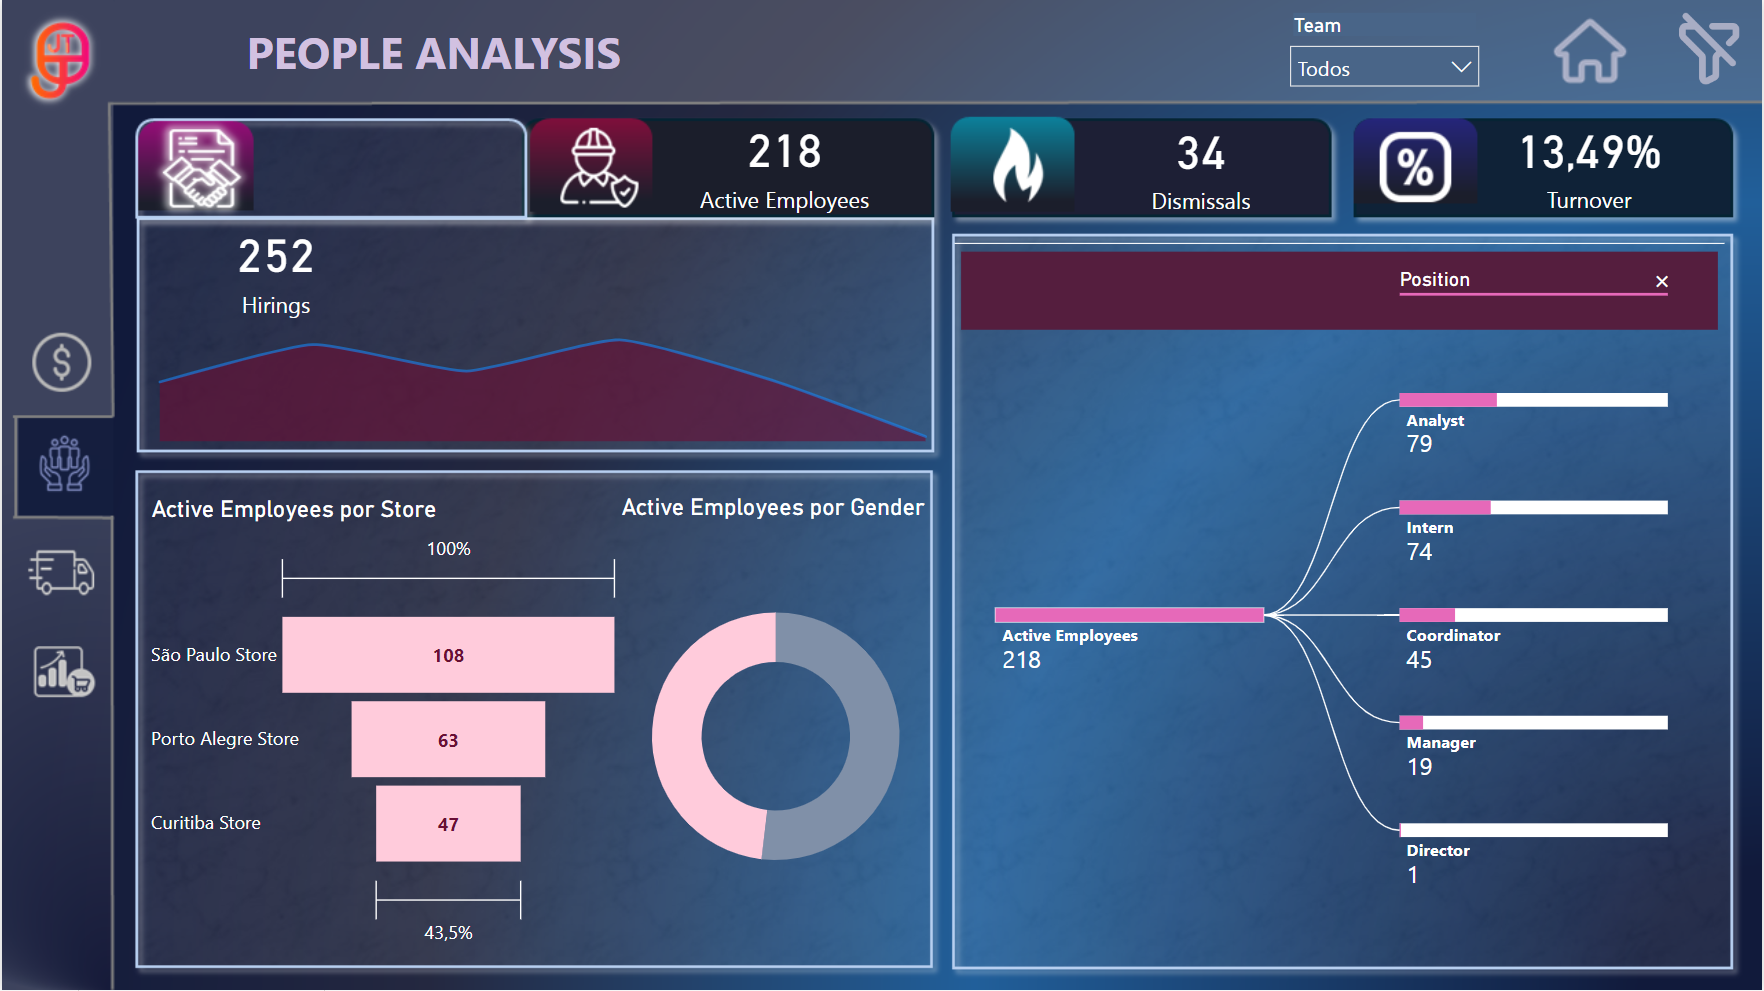

Layout of this report page (visuals, bound fields, positions):
{"tool":"powerbi","page":{"name":"People","canvas":[1280,720],"ordinal":2},"visuals":[{"type":"textbox","box":[172.9,11,360.9,61.7],"z":0},{"type":"card","fields":{"Values":["dash-measures.Hirings"]},"box":[132.1,146.5,135.3,95.5],"z":1000},{"type":"card","fields":{"Values":["Dash-Measures.Active Employees"]},"box":[486.9,66.7,164.3,103.6],"z":2000},{"type":"card","fields":{"Values":["Dash-Measures.Turnover"]},"box":[1083.3,73.8,141.7,89.3],"z":3000},{"type":"card","fields":{"Values":["Dash-Measures.Active Employees"]},"box":[810.7,75,122.6,86.9],"z":4000},{"type":"slicer","title":"Year","fields":{"Values":["public_funcionarios.Area"]},"box":[926.2,4.8,158.3,70.2],"z":5000},{"type":"actionButton","box":[1124,0,60.5,70],"z":6000},{"type":"funnel","fields":{"Y":["Dash-Measures.Active Employees"],"Category":["public_funcionarios.City"]},"box":[103.6,359.7,352,336],"z":7000},{"type":"stackedAreaChart","fields":{"Category":["public_funcionarios.data_contratacao.Variation.Date Hierarchy.Year"],"Y":["dash-measures.Hirings"]},"box":[100,216.7,586.9,110.7],"z":8000},{"type":"donutChart","fields":{"Y":["dash-measures.Active Employees"],"Category":["public_funcionarios.funcionario_gen"]},"box":[445.6,358.6,235,335.7],"z":9000},{"type":"decompositionTreeVisual","fields":{"Analyze":["Dash-Measures.Active Employees"],"ExplainBy":["public_funcionarios.Position"]},"box":[692.5,171.9,560.4,527],"z":10000},{"type":"image","box":[1203.6,4.8,76.4,68.5],"z":11000},{"type":"actionButton","box":[13.2,383.6,58.8,55.4],"z":12000},{"type":"actionButton","box":[13.7,461.4,56.7,51.4],"z":13000},{"type":"actionButton","box":[15.8,239.9,59.1,51.9],"z":14000}]}

Visuals, with their boxes in screenshot pixels (x1, y1, x2, y2), scaled from the page's 1280x720 canvas onto the 1764x991 screenshot:
textbox: pyautogui.locateOnScreen(238, 15, 736, 100)
card - dash-measures.Hirings: pyautogui.locateOnScreen(182, 202, 369, 333)
card - Dash-Measures.Active Employees: pyautogui.locateOnScreen(671, 92, 897, 234)
card - Dash-Measures.Turnover: pyautogui.locateOnScreen(1493, 102, 1688, 224)
card - Dash-Measures.Active Employees: pyautogui.locateOnScreen(1117, 103, 1286, 223)
"Year" slicer: pyautogui.locateOnScreen(1276, 7, 1495, 103)
actionButton: pyautogui.locateOnScreen(1549, 0, 1632, 96)
funnel - Dash-Measures.Active Employees x public_funcionarios.City: pyautogui.locateOnScreen(143, 495, 628, 958)
stackedAreaChart - public_funcionarios.data_contratacao.Variation.Date Hierarchy.Year x dash-measures.Hirings: pyautogui.locateOnScreen(138, 298, 947, 451)
donutChart - dash-measures.Active Employees x public_funcionarios.funcionario_gen: pyautogui.locateOnScreen(614, 494, 938, 956)
decompositionTreeVisual - Dash-Measures.Active Employees x public_funcionarios.Position: pyautogui.locateOnScreen(954, 237, 1727, 962)
image: pyautogui.locateOnScreen(1659, 7, 1763, 101)
actionButton: pyautogui.locateOnScreen(18, 528, 99, 604)
actionButton: pyautogui.locateOnScreen(19, 635, 97, 706)
actionButton: pyautogui.locateOnScreen(22, 330, 103, 402)
